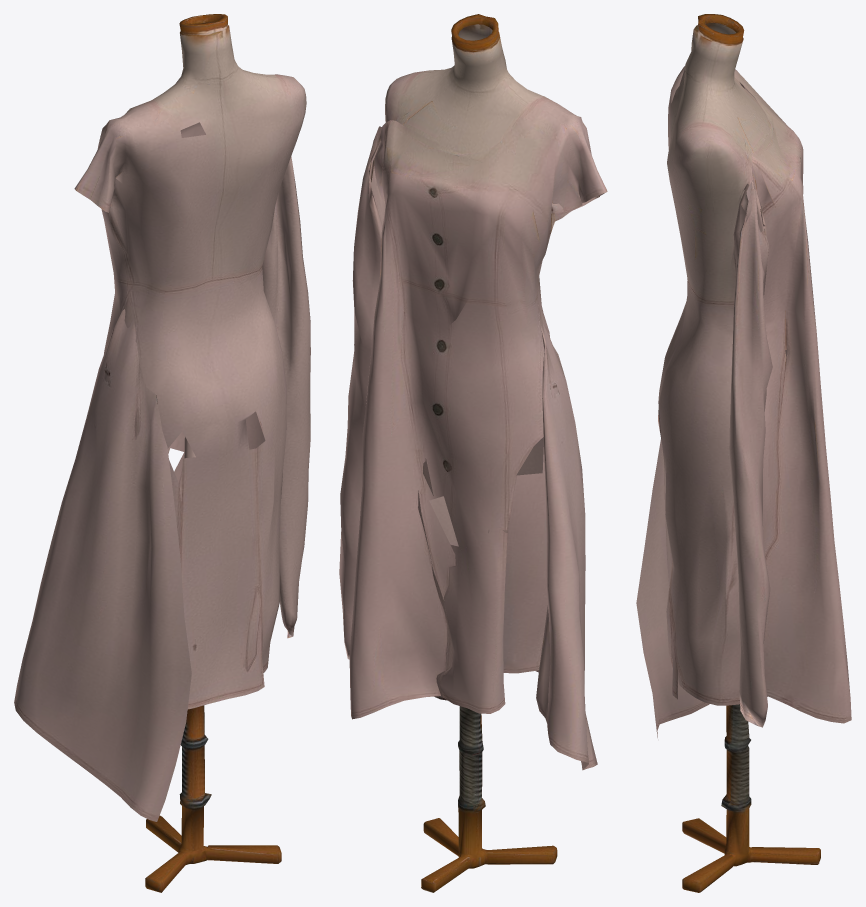
File: office-dress-form.glb
The picture shows the model from 3 angles, left to right: view 1: azimuth 30°, elevation 25°; view 2: azimuth 150°, elevation 25°; view 3: azimuth 270°, elevation 25°; orthographic projection. The views are drawn at different scales.
Parts seen in each view (by area): view 1: dress-form; view 2: dress-form; view 3: dress-form.
Part boxes in pixels (x1,y1,x2,y2): dress-form: [14, 14, 310, 892]; dress-form: [339, 14, 607, 892]; dress-form: [636, 14, 851, 892].
Bounding box in the file's own units: 0.5635 × 1.7 × 0.3934.
Materials: 1 (1 with a texture image).
